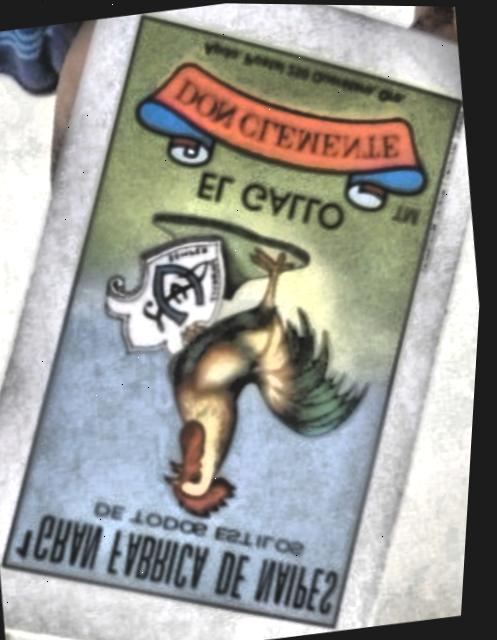Gallo: (12, 18, 463, 628)
